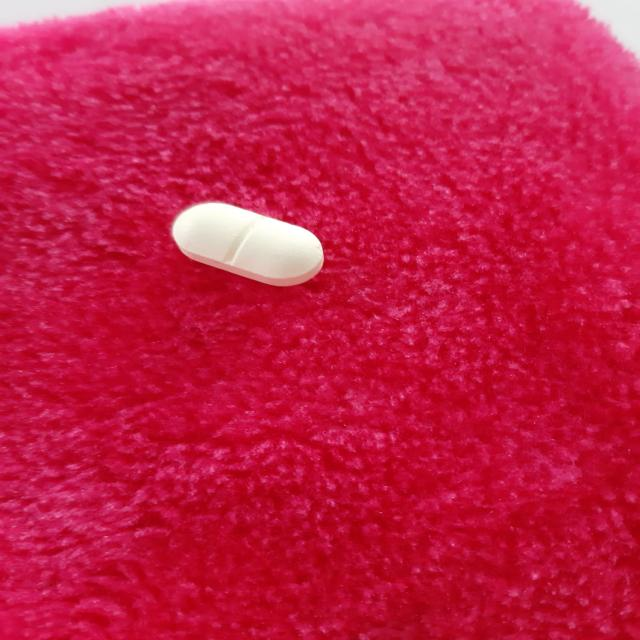pills: (157, 181, 337, 307)
